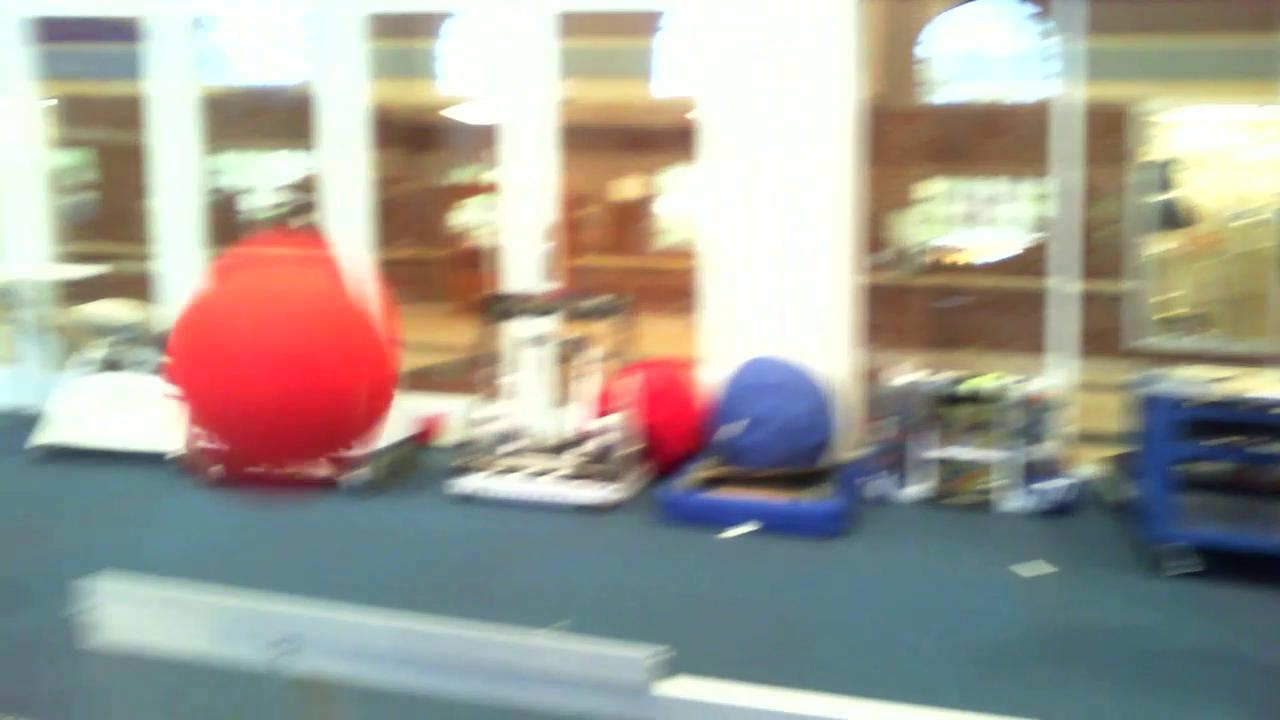Red_Ball: (143, 225, 416, 453)
